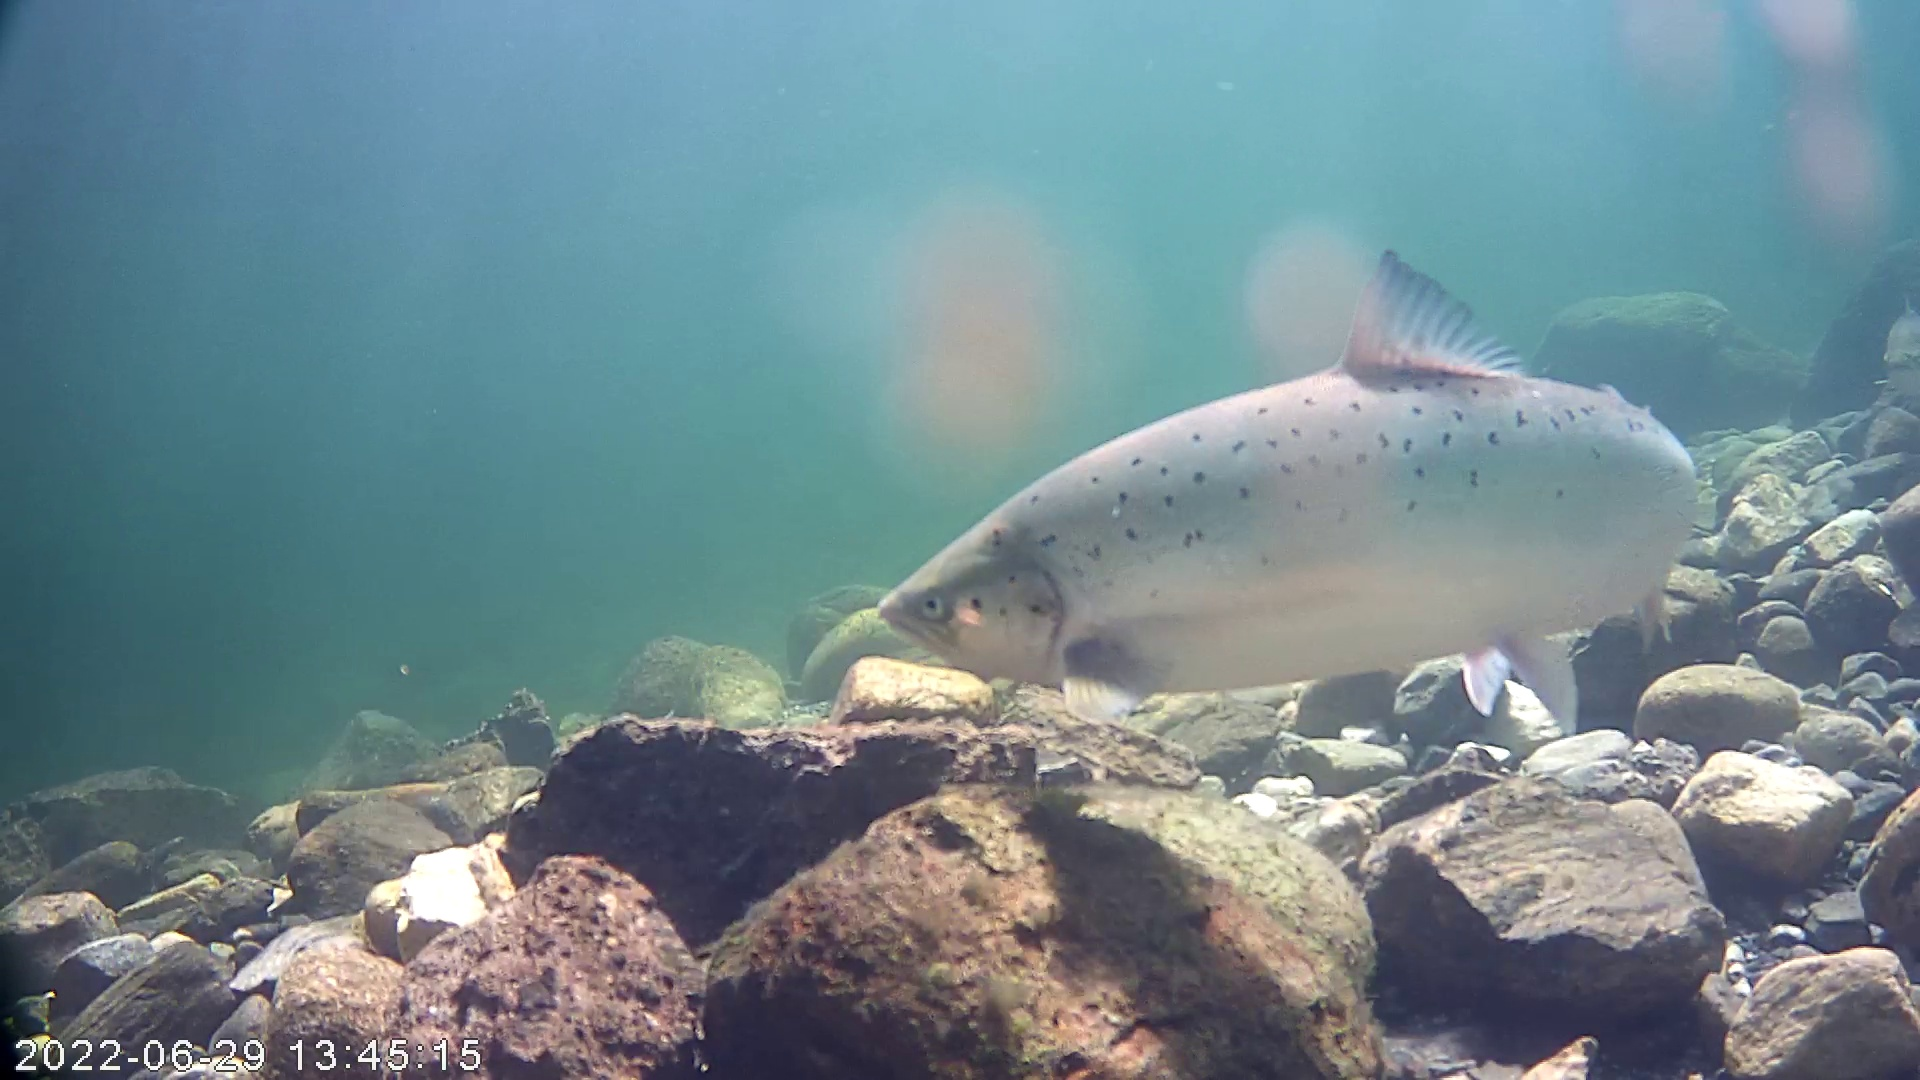salmon: (864, 251, 1727, 764)
